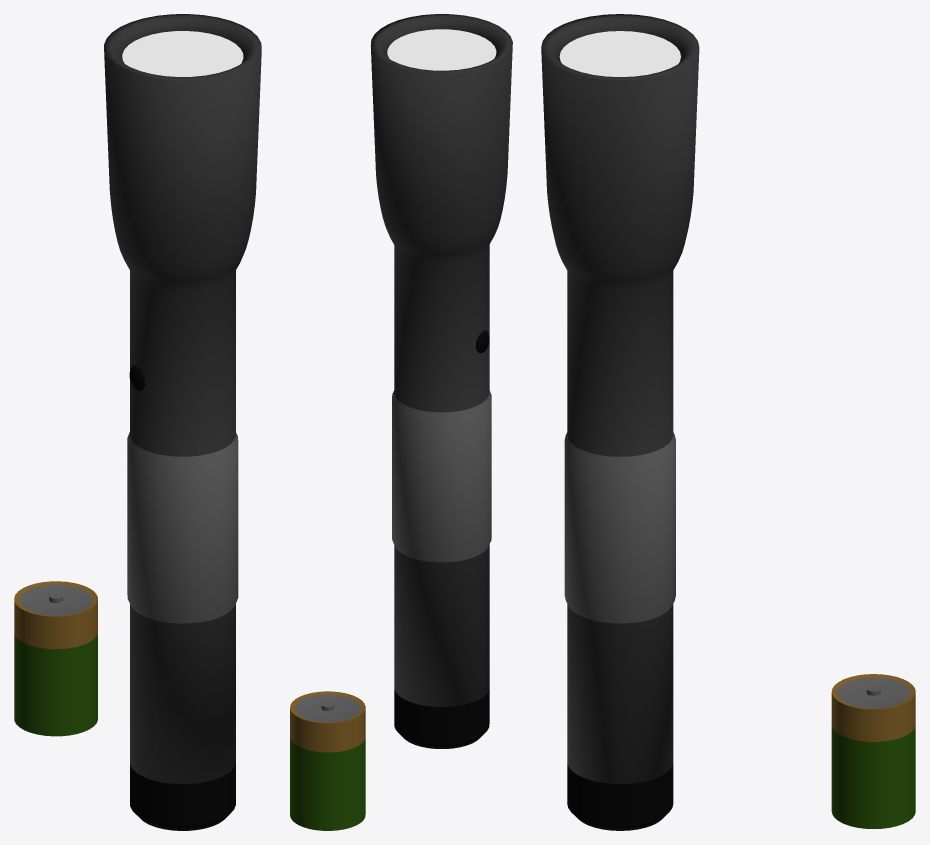
File: Flashlight.fbx
The picture shows the model from 3 angles, left to right: view 1: azimuth 30°, elevation 25°; view 2: azimuth 150°, elevation 25°; view 3: azimuth 270°, elevation 25°; orthographic projection. The views are drawn at different scales.
Visible parts, largest first — view 1: Sphere, Cylinder.002; view 2: Sphere, Cylinder.002; view 3: Sphere, Cylinder.002.
Part boxes in pixels (bbox=[...]): Sphere: bbox=[104, 14, 261, 830]; Cylinder.002: bbox=[14, 581, 97, 736]; Sphere: bbox=[370, 14, 512, 748]; Cylinder.002: bbox=[290, 691, 365, 830]; Sphere: bbox=[541, 14, 699, 830]; Cylinder.002: bbox=[831, 674, 915, 828].
Size of the model in its own units: 61.35 by 327 by 145.
